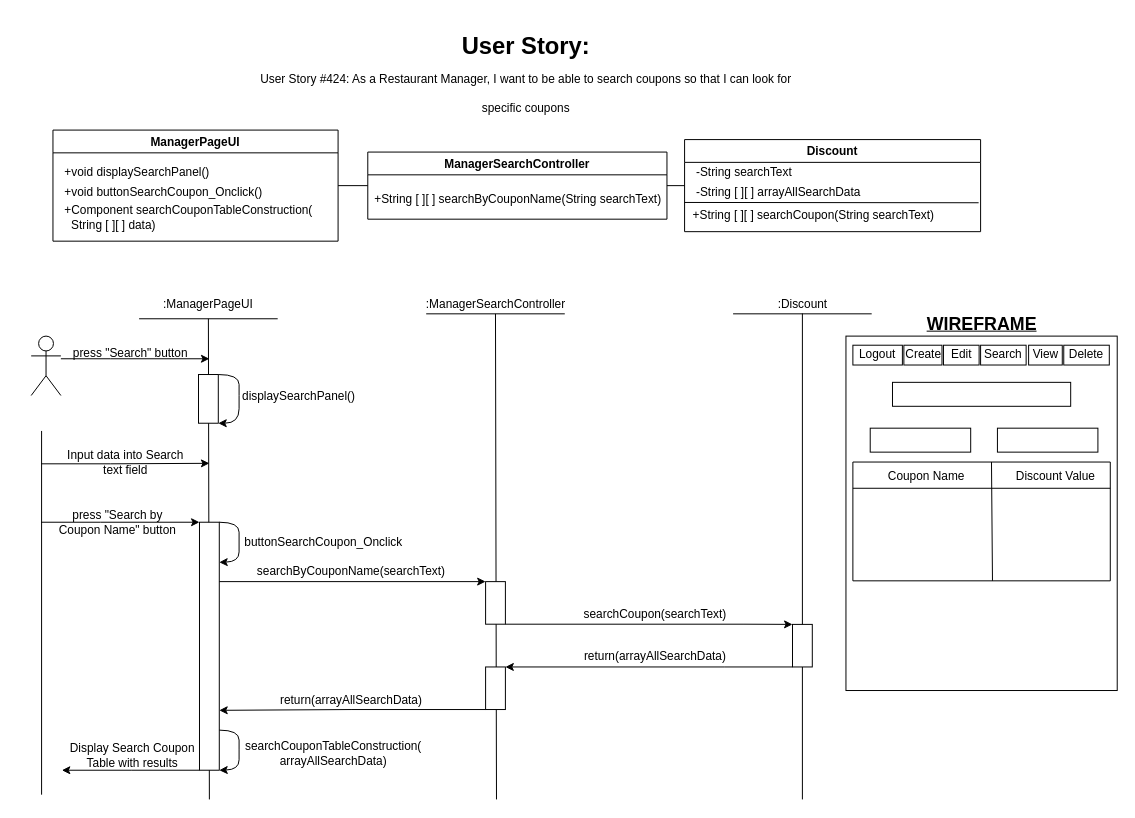
Some shapes in this 1135 by 818 pixel diagram are drawn without their labels. The shapes that lost their labels are listed below. From the top down, each one's centre as x and y in pixels, then its label:
At point 45,365: "Restaurant Manager".
At point 920,439: "Search by Menu Item Name".
At point 1047,439: "Search by Coupon Name".
